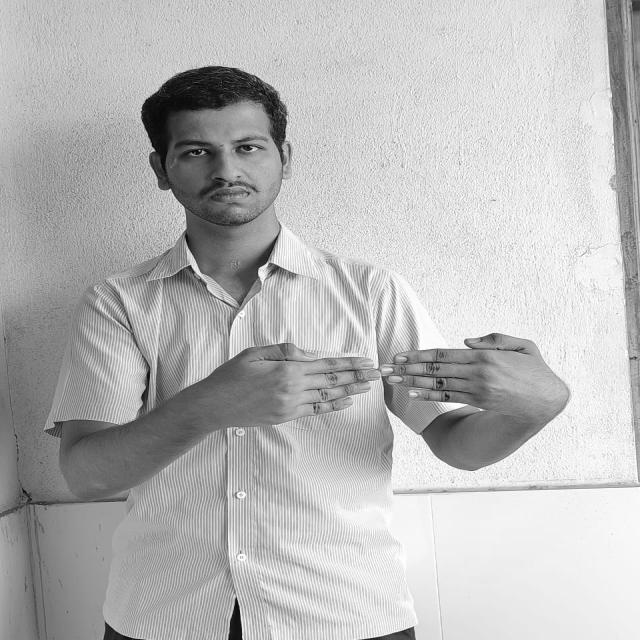Night: (207, 332, 577, 426)
